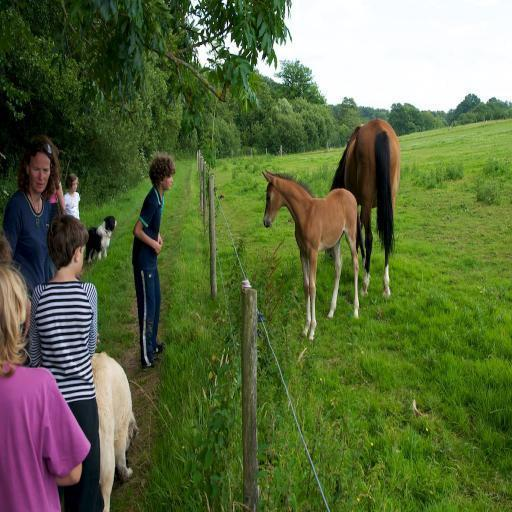horse: (262, 171, 360, 344), (329, 118, 402, 296)
